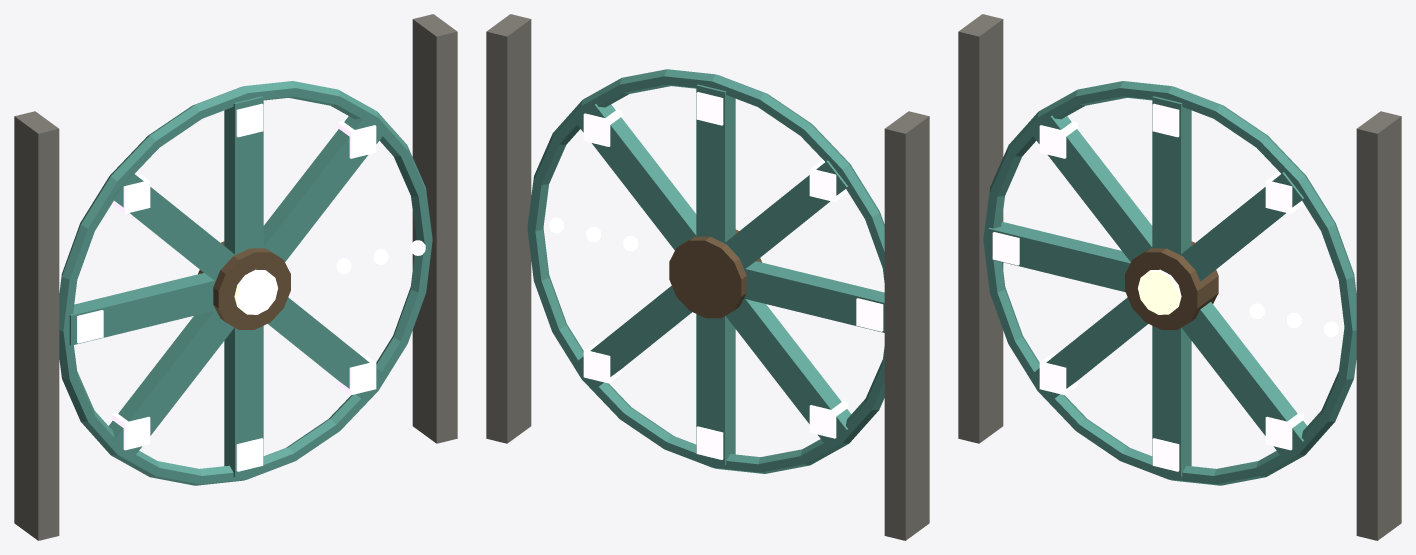
File: 06_pollen_mill.glb
The picture shows the model from 3 angles, left to right: view 1: azimuth 30°, elevation 25°; view 2: azimuth 150°, elevation 25°; view 3: azimuth 330°, elevation 25°; orthographic projection.
Visible parts, largest first — view 1: pollen_mill_stand_-1, pollen_mill_rim_nocol, pollen_mill_stand_1, pollen_vane_5, pollen_vane_1, pollen_vane_2, pollen_vane_4, pollen_vane_6, pollen_vane_3, pollen_mill_hub, pollen_vane_7, pollen_mill_hub_signal (+7 smaller); view 2: pollen_mill_stand_-1, pollen_mill_stand_1, pollen_mill_rim_nocol, pollen_vane_5, pollen_vane_1, pollen_vane_2, pollen_mill_hub, pollen_vane_6, pollen_vane_4, pollen_vane_3, pollen_vane_7, pollen_fuzz_5_nocol (+6 smaller); view 3: pollen_mill_stand_1, pollen_mill_rim_nocol, pollen_mill_stand_-1, pollen_vane_7, pollen_vane_3, pollen_vane_2, pollen_vane_6, pollen_vane_4, pollen_mill_hub, pollen_vane_1, pollen_vane_5, pollen_mill_hub_signal (+7 smaller).
Boxes of the visible parts, x1,y1,x2,y2 form: pollen_mill_stand_-1: (14, 111, 59, 540); pollen_mill_rim_nocol: (59, 81, 432, 485); pollen_mill_stand_1: (412, 14, 457, 443); pollen_vane_5: (109, 309, 234, 457); pollen_vane_1: (263, 115, 385, 261); pollen_vane_2: (224, 96, 263, 254); pollen_vane_4: (69, 273, 215, 345); pollen_vane_6: (224, 326, 263, 477); pollen_vane_3: (112, 172, 235, 281); pollen_mill_hub: (198, 241, 290, 329); pollen_vane_7: (267, 297, 385, 401); pollen_mill_hub_signal: (234, 269, 277, 314); pollen_mill_stand_-1: (884, 111, 929, 540); pollen_mill_stand_1: (486, 14, 531, 443); pollen_mill_rim_nocol: (527, 69, 884, 473); pollen_vane_5: (726, 298, 851, 446); pollen_vane_1: (575, 104, 696, 250); pollen_vane_2: (696, 84, 735, 243); pollen_mill_hub: (669, 229, 761, 318); pollen_vane_6: (696, 314, 735, 465); pollen_vane_4: (744, 261, 884, 332); pollen_vane_3: (725, 160, 847, 268); pollen_vane_7: (574, 285, 691, 389); pollen_fuzz_5_nocol: (809, 400, 848, 438); pollen_mill_stand_1: (1356, 111, 1401, 540); pollen_mill_rim_nocol: (983, 81, 1356, 485); pollen_mill_stand_-1: (958, 14, 1003, 443); pollen_vane_7: (1181, 302, 1306, 457); pollen_vane_3: (1030, 115, 1152, 261); pollen_vane_2: (1152, 96, 1191, 254); pollen_vane_6: (1152, 326, 1191, 477); pollen_vane_4: (988, 221, 1130, 292); pollen_mill_hub: (1125, 241, 1218, 329); pollen_vane_1: (1180, 172, 1303, 281); pollen_vane_5: (1030, 297, 1148, 401); pollen_mill_hub_signal: (1138, 269, 1181, 314).
Size of the model in its own units: 18.1 by 16.8 by 2.5.
